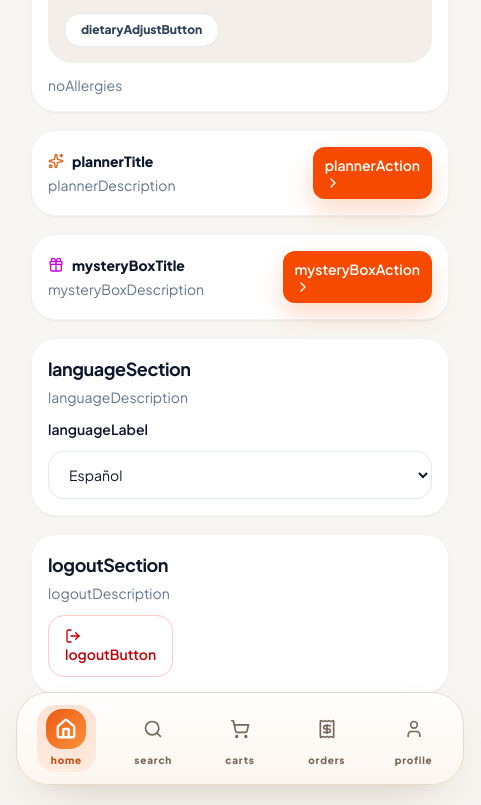
Test: ProfilePage › shows the sign-out error when logout fails
(page scrolled)
Click the button "logoutButton": (111, 646) left=48, top=615, right=173, bottom=677
(page scrolled)
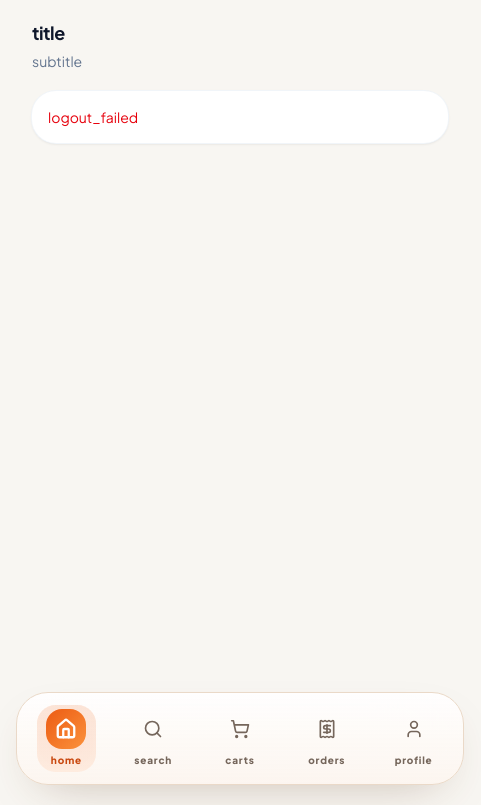
Result: the text "logout_failed" is shown at left=32, top=91, right=448, bottom=143
